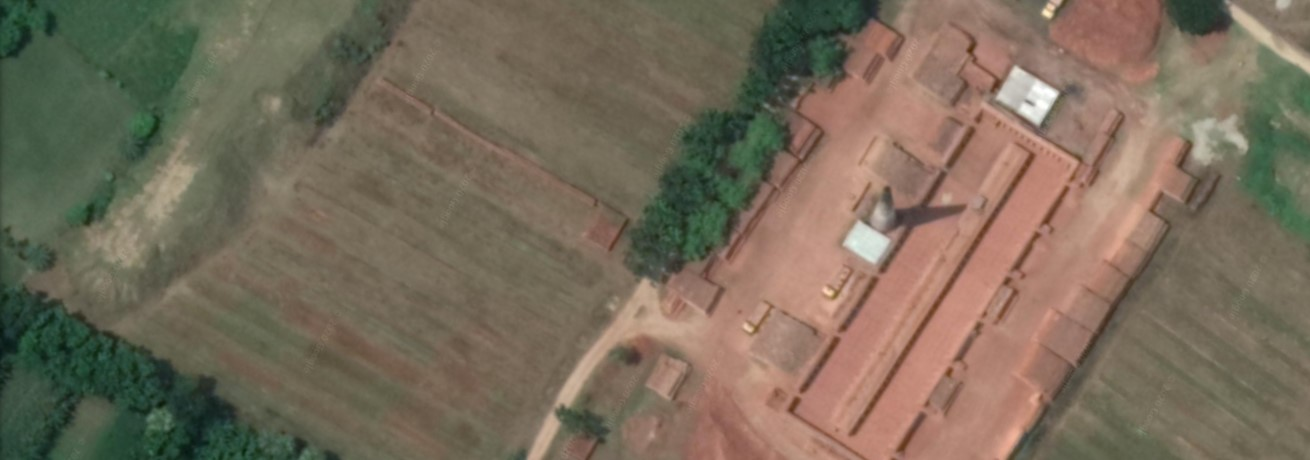kiln: (778, 93, 1143, 360)
